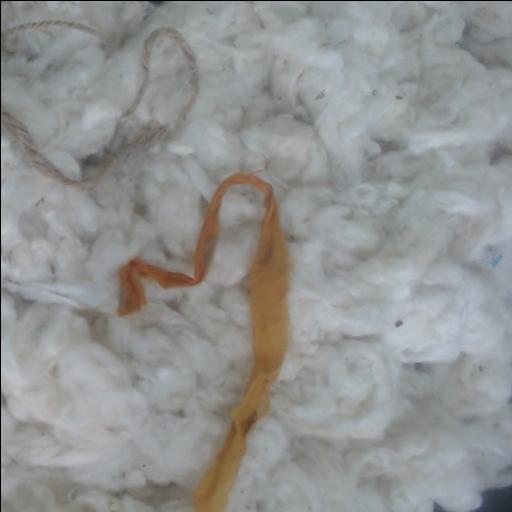cloth: (119, 174, 289, 512)
cotton: (1, 1, 512, 512), (136, 32, 193, 126)
jute: (1, 28, 197, 190), (1, 20, 96, 49)
